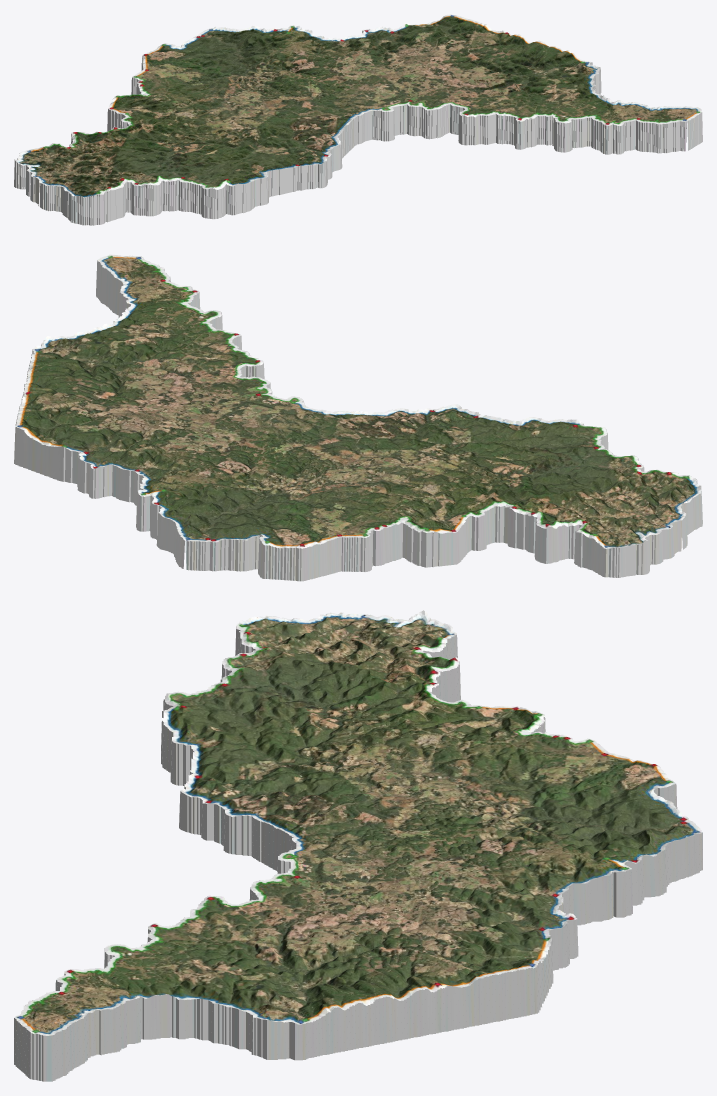
3 views of the same model, one above another, from view 1: azimuth 30°, elevation 25°; view 2: azimuth 150°, elevation 25°; view 3: azimuth 270°, elevation 25° (orthographic). The views are drawn at different scales.
Size of the model in its own units: 1 by 0.0543 by 0.6754.
Materials: 1 (1 with a texture image).
